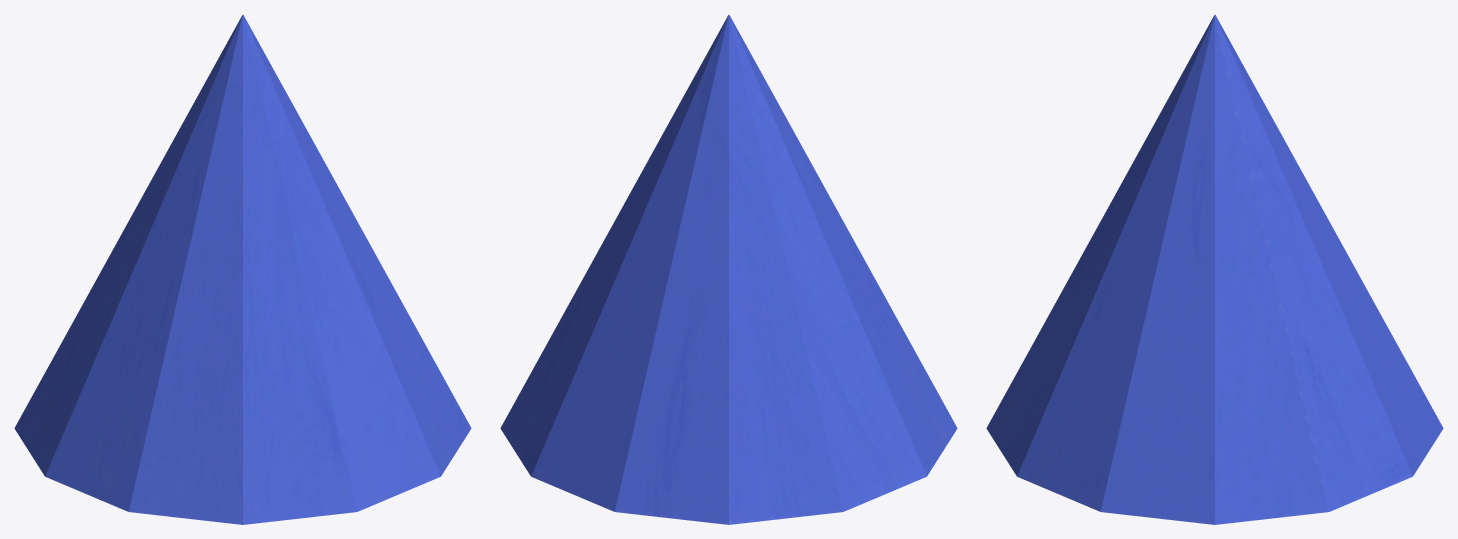
Rendered from ConeBlock_Blue.fbx.
3 views of the same model, side by side, from view 1: azimuth 30°, elevation 25°; view 2: azimuth 150°, elevation 25°; view 3: azimuth 270°, elevation 25° (orthographic).
Visible parts, largest first — view 1: Cone.001; view 2: Cone.001; view 3: Cone.001.
Boxes of the visible parts, box(x1,y1,x2,y2) form: Cone.001: box(14, 14, 471, 524); Cone.001: box(500, 14, 957, 524); Cone.001: box(986, 14, 1443, 524).
Bounding box in the file's own units: 100 × 100 × 100.
